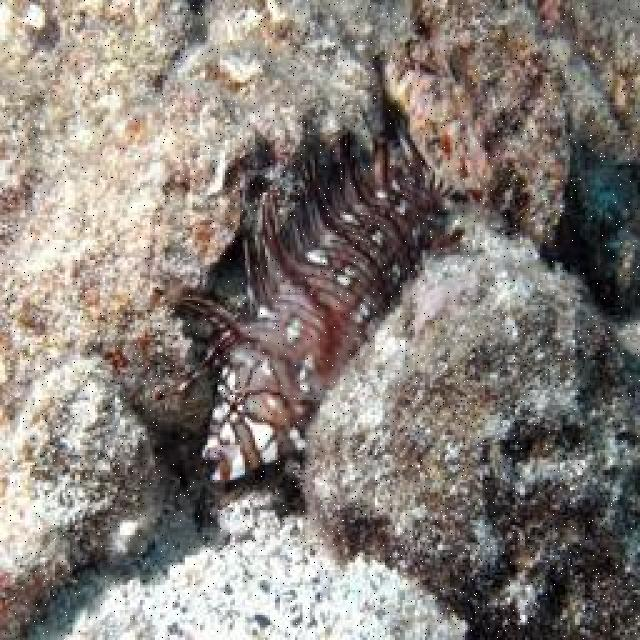reefs: (171, 130, 465, 485)
